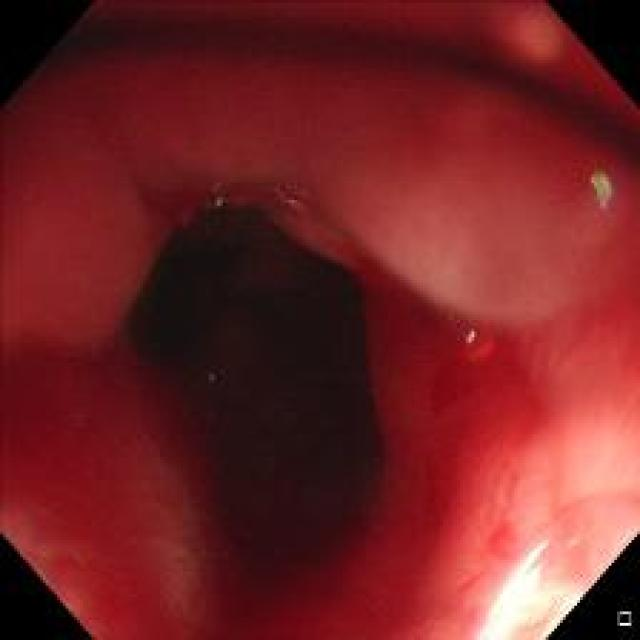color misalignment: (576, 161, 621, 212), (200, 179, 229, 216), (458, 320, 484, 346), (200, 366, 219, 395)
contrast: (129, 170, 420, 602)
saturation: (474, 546, 576, 639)
